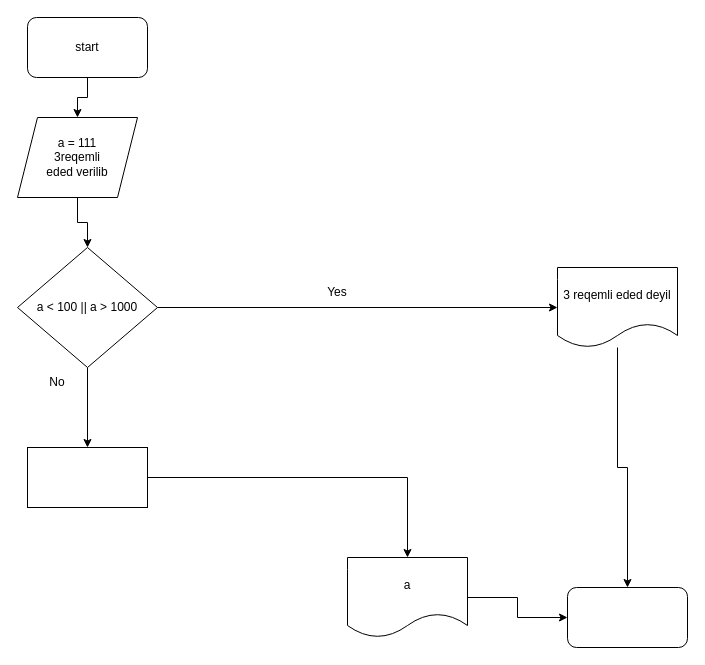
Image size: 705x665. Some labels were removed from this diagram. The centre of each missing label's shape, as x and y in pixels:
a = a * 10 + 7 a = a / 100 * 7: (87,477)
end: (627,617)
